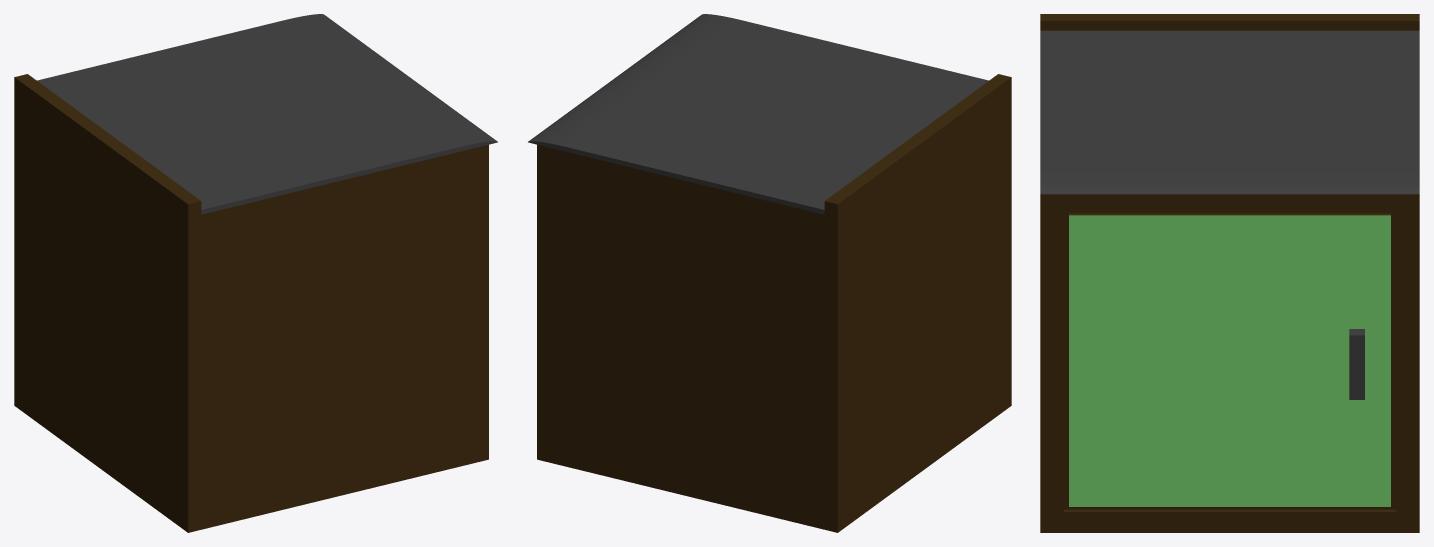
Rendered from counter c.fbx.
The picture shows the model from 3 angles, left to right: view 1: azimuth 30°, elevation 25°; view 2: azimuth 150°, elevation 25°; view 3: azimuth 270°, elevation 25°; orthographic projection. The views are drawn at different scales.
Parts seen in each view (by area): view 1: Cube; view 2: Cube; view 3: Cube.
Boxes of the visible parts, left/top/right/bottom form: Cube: left=14, top=14, right=497, bottom=532; Cube: left=528, top=14, right=1011, bottom=532; Cube: left=1040, top=14, right=1419, bottom=532.
Bounding box in the file's own units: 104 × 104 × 100.
